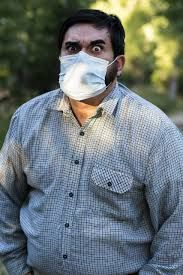with-mask: (56, 13, 125, 104)
